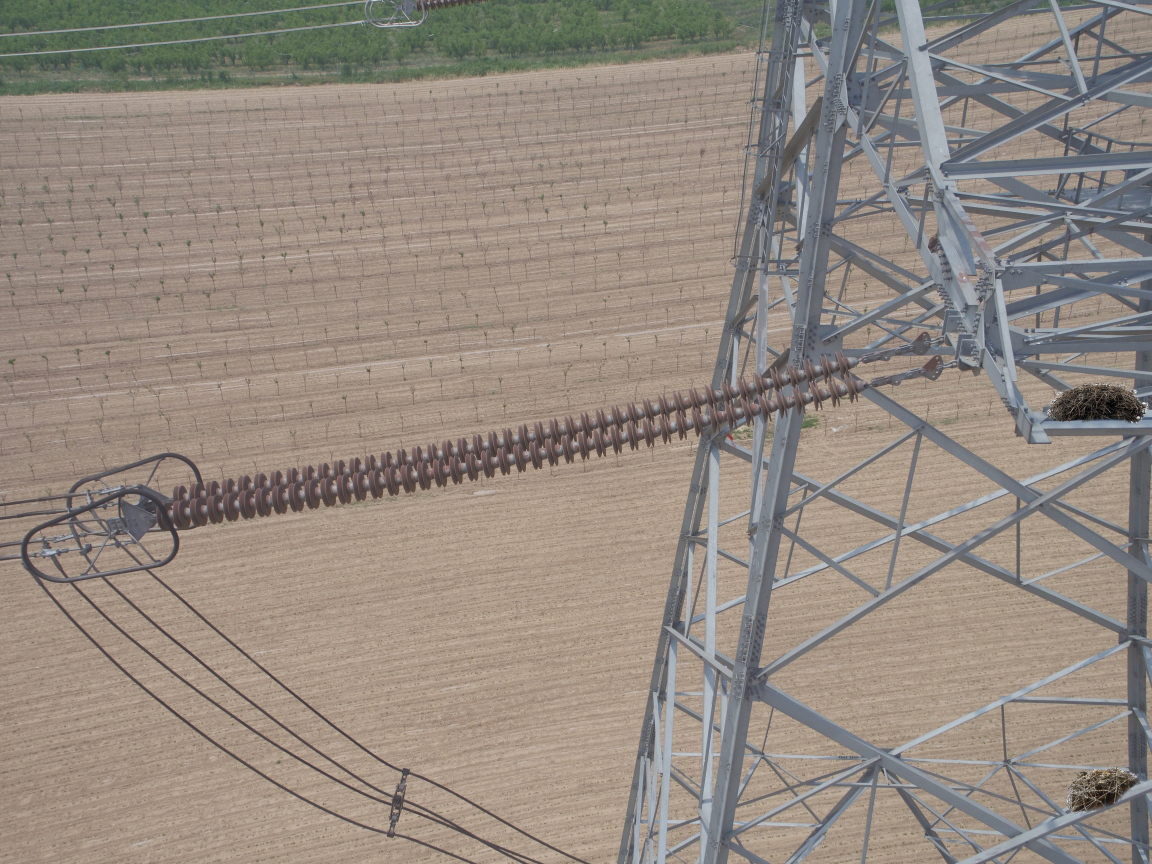nest: (1041, 385, 1148, 424), (1064, 763, 1138, 815)
